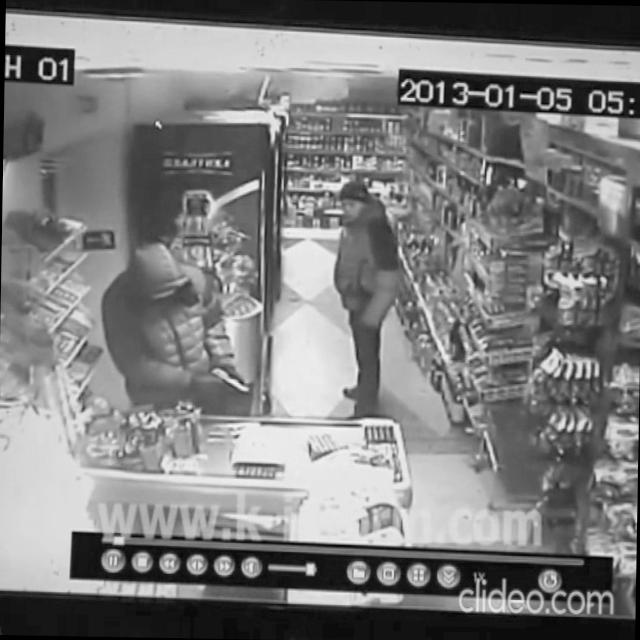gun: (210, 365, 249, 396)
person: (330, 178, 404, 420)
person with a gun: (99, 240, 252, 418)
